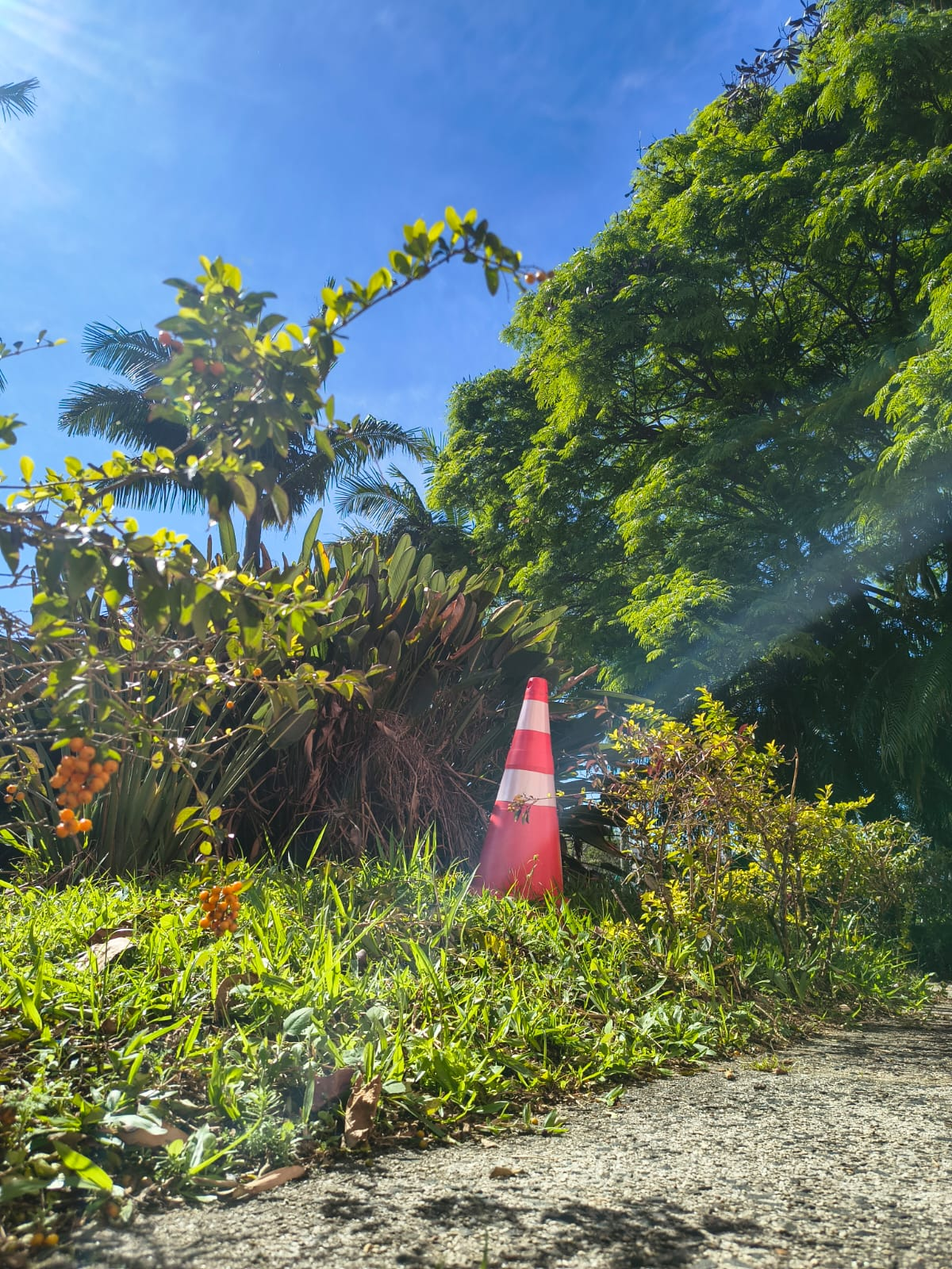cone: (468, 661, 571, 921)
